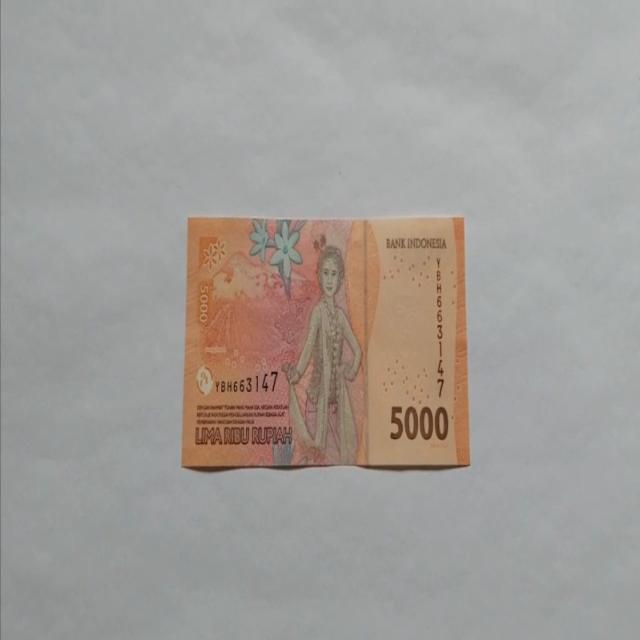lima ribu rupiah: (180, 214, 470, 471), (281, 244, 364, 466)
